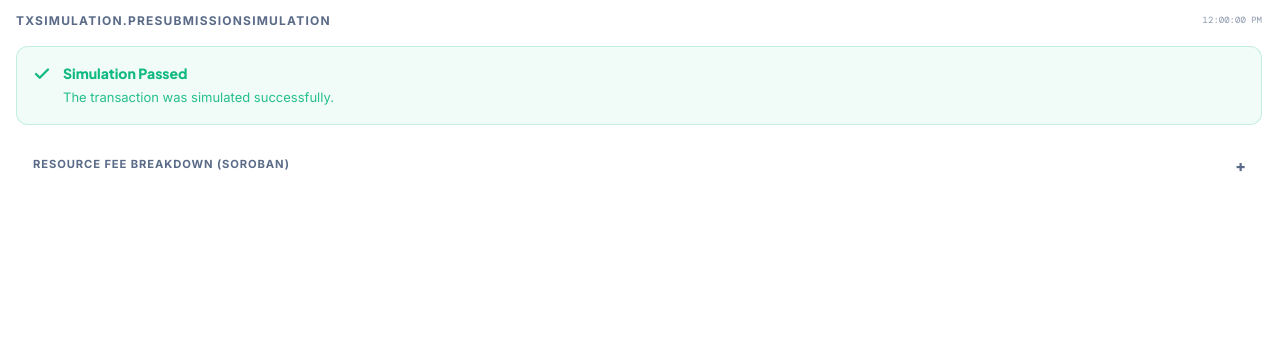
Test: TransactionSimulationPanel › renders resource fee breakdown for Soroban simulations and allows expanding
The image size is (1279, 350).
Expected: the element with test id "resource-fee-breakdown" is shown, [16,140,1262,195]
Expected: the text "Resource Fee Breakdown (Soroban)" is shown, [33,156,290,172]
Click to expand
Click the button with test id "resource-breakdown-toggle" at (161, 164), box [33,156,1245,180]
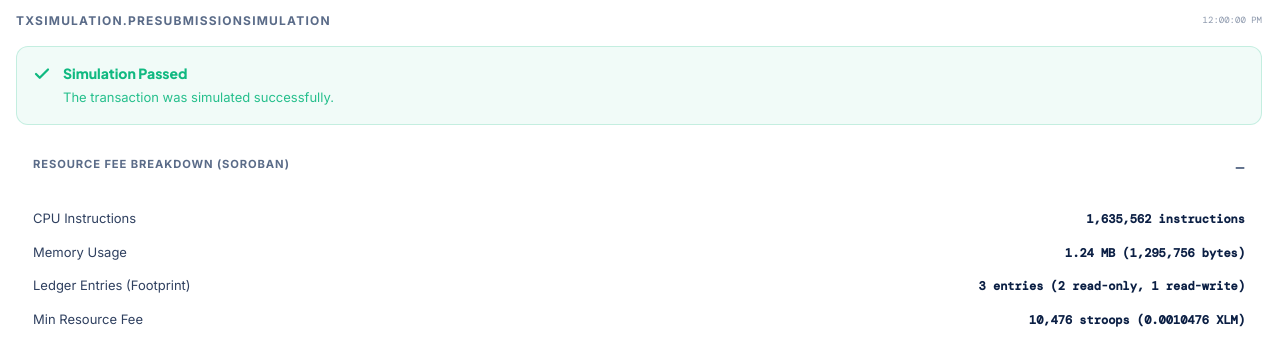
Result: the button with test id "resource-breakdown-toggle" is expanded
Result: the element with test id "resource-breakdown-content" is shown at [33,192,1245,333]
Result: the text "1,635,562 instructions" is shown at [1087,210,1245,228]
Click again to collapse
Click the button with test id "resource-breakdown-toggle" at (161, 164), box [33,156,1245,180]
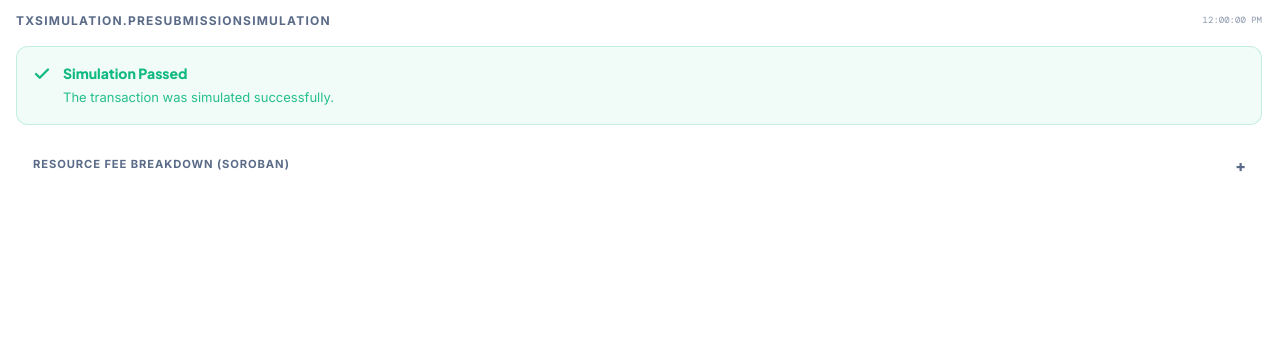
Result: the button with test id "resource-breakdown-toggle" is collapsed at [33,156,1245,180]
Result: the element with test id "resource-breakdown-content" is gone
